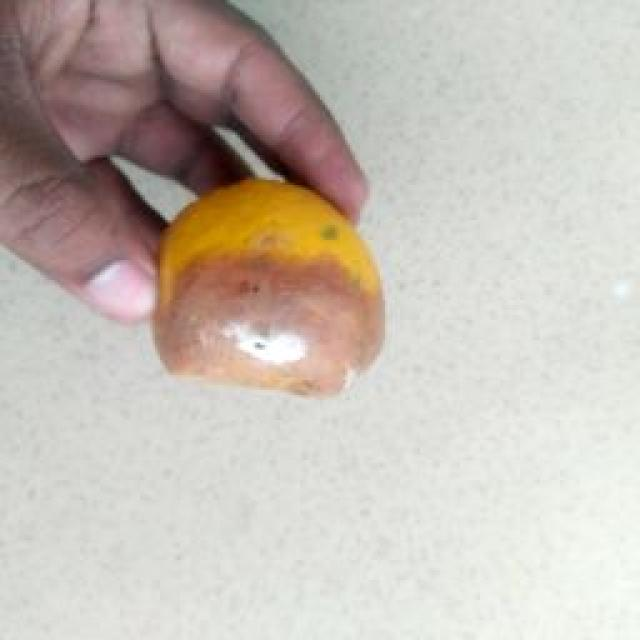Bad_Orange: (154, 180, 382, 394)
